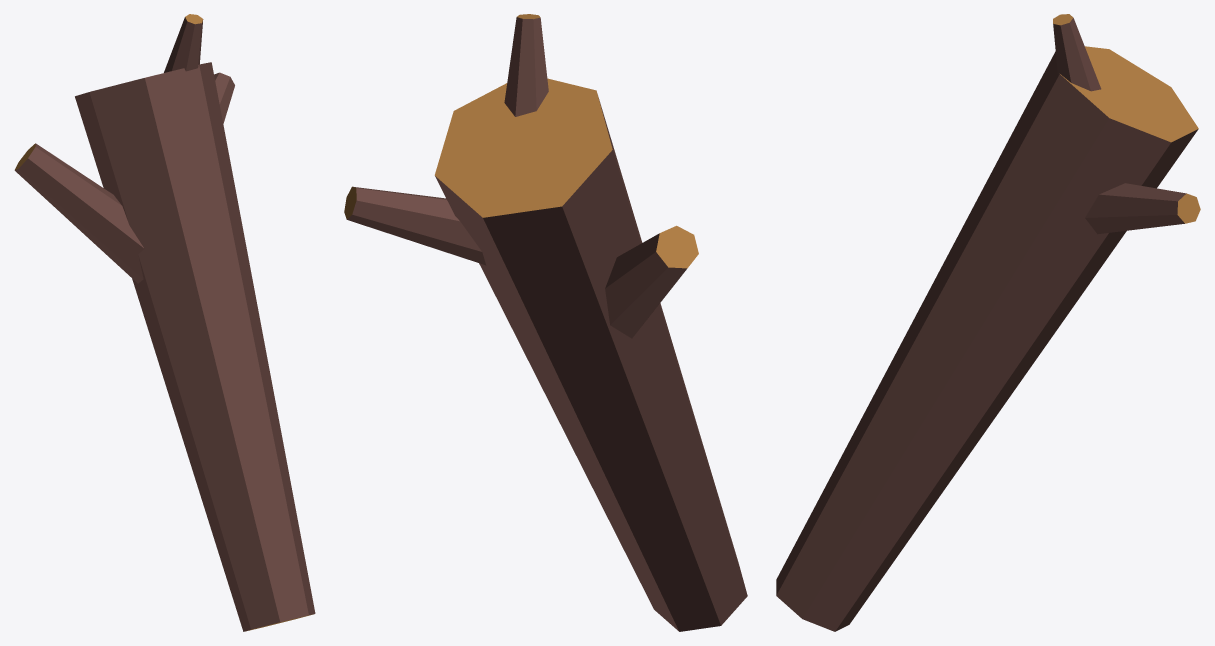
3 views of the same model, side by side, from view 1: azimuth 30°, elevation 25°; view 2: azimuth 150°, elevation 25°; view 3: azimuth 270°, elevation 25° (orthographic). The views are drawn at different scales.
Parts seen in each view (by area): view 1: mount; view 2: mount; view 3: mount.
Boxes of the visible parts, x1,y1,x2,y2 form: mount: [14, 14, 315, 631]; mount: [344, 14, 747, 631]; mount: [776, 14, 1200, 631].
Size of the model in its own units: 10.34 by 21.75 by 13.49.
